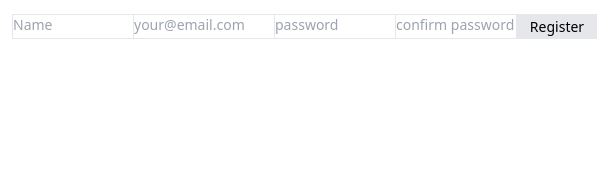
Register Component › shows error message on failed registration
This screenshot has width=614, height=172.
Type "John Doe" into the field named "user-name" at (73, 25), box [13, 15, 133, 35]
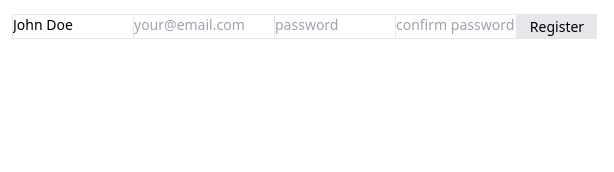
Type "existing@example.com" into the field named "user-email" at (204, 25), box [134, 15, 274, 35]
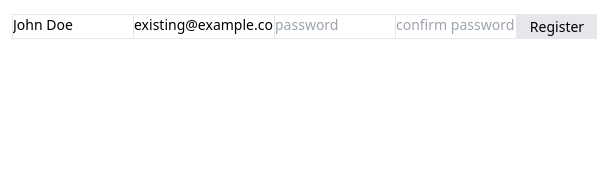
Type "password123" into the password field named "user-password" at (335, 25), box [275, 15, 395, 35]
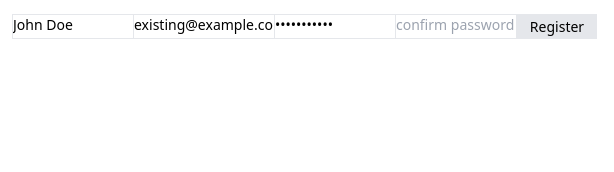
Type "password123" into the password field named "user-password-confirmation" at (456, 25), box [396, 15, 516, 35]
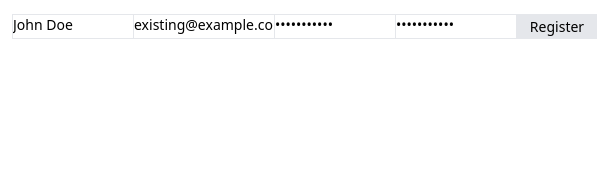
Submit the form, box [12, 14, 597, 39]
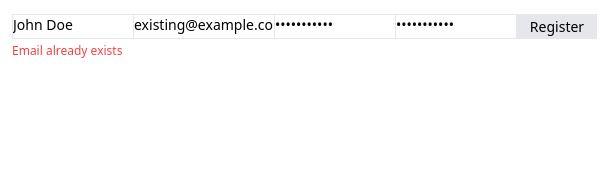
Result: the text "Email already exists" is shown at [12, 42, 122, 59]
